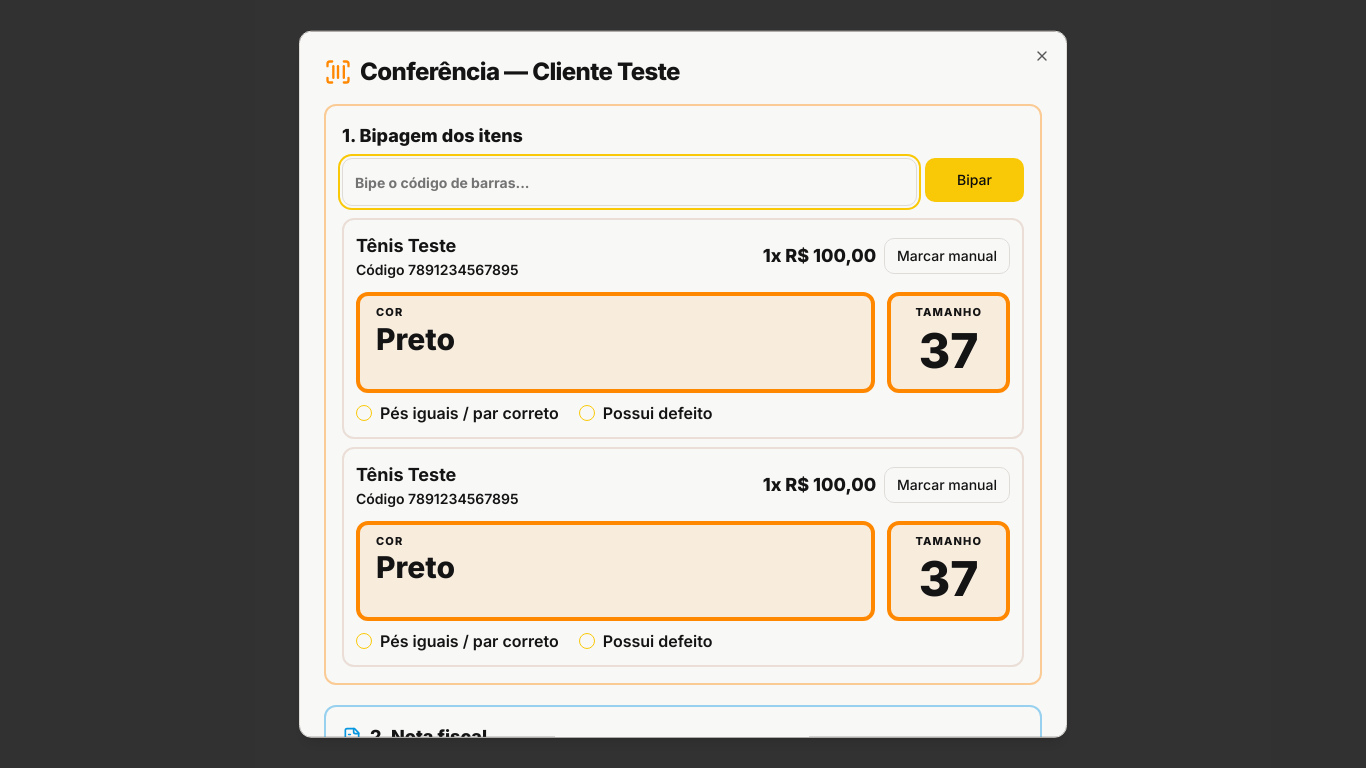
Scenario: conferência da Expedição do PDV › duas unidades em duas linhas contam duas bipagens
The image size is (1366, 768).
Type "T101-37" into the field with placeholder "Bipe o código de barras...".
click(630, 182); type("T101-37")  # box [342,158,917,206]
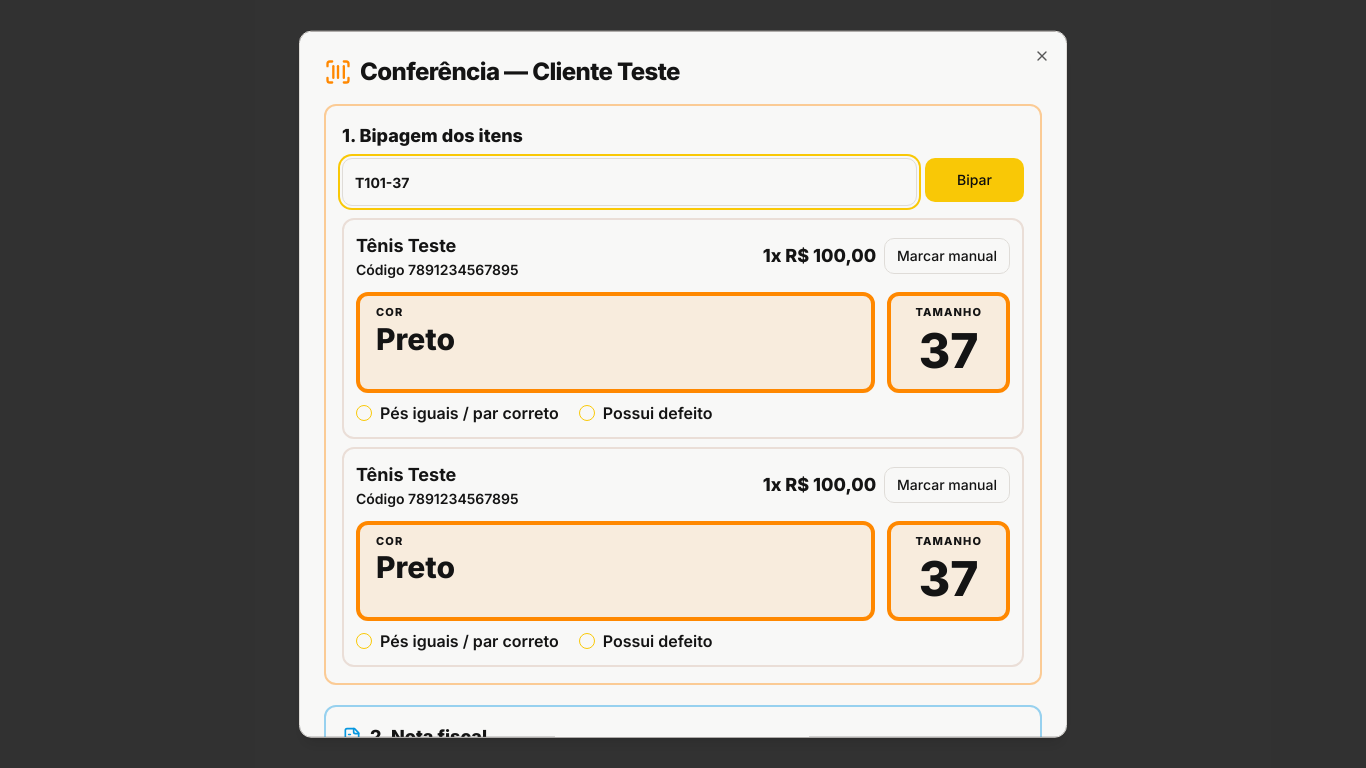
Press Enter in the field with placeholder "Bipe o código de barras...", box [342,158,917,206]
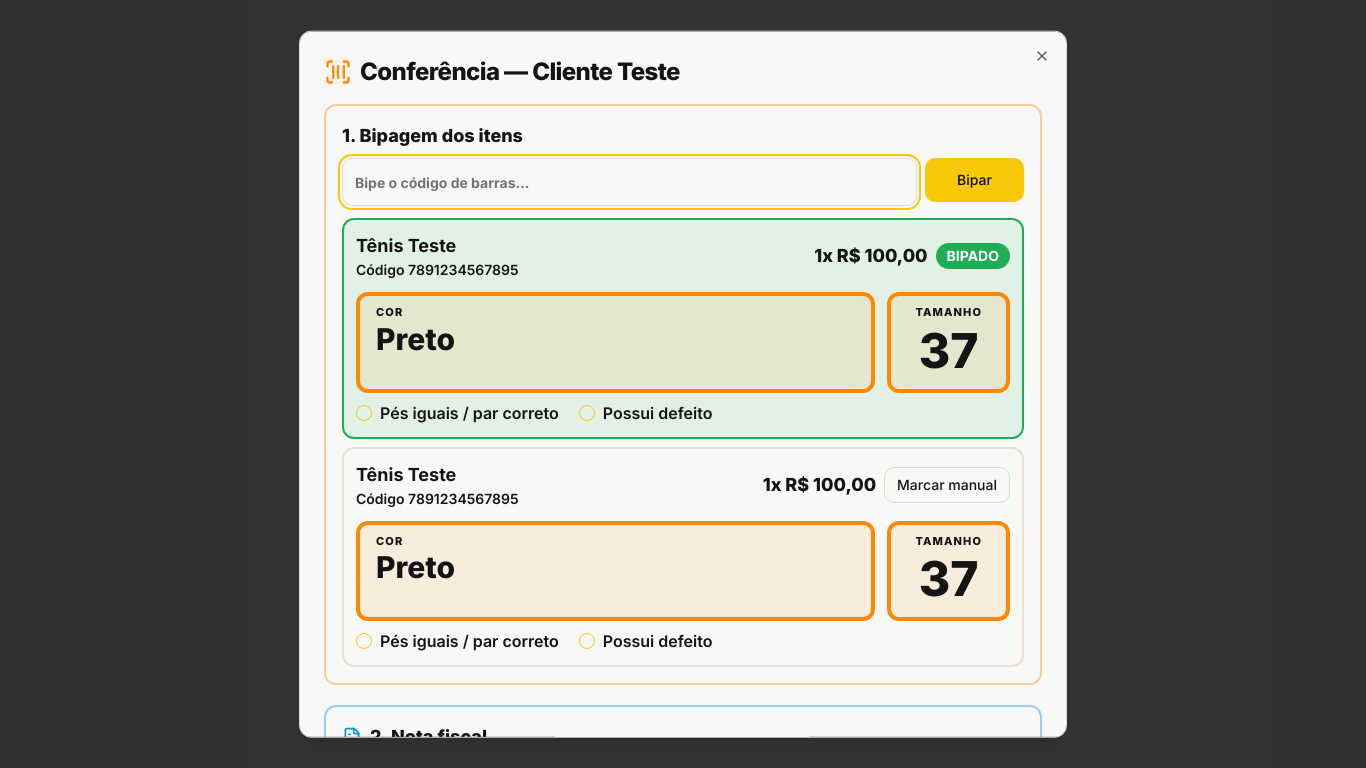
Expected: the text "BIPADO" is shown once, [936,243,1010,269]
Type "T101-37" into the field with placeholder "Bipe o código de barras...".
click(630, 182); type("T101-37")  # box [342,158,917,206]
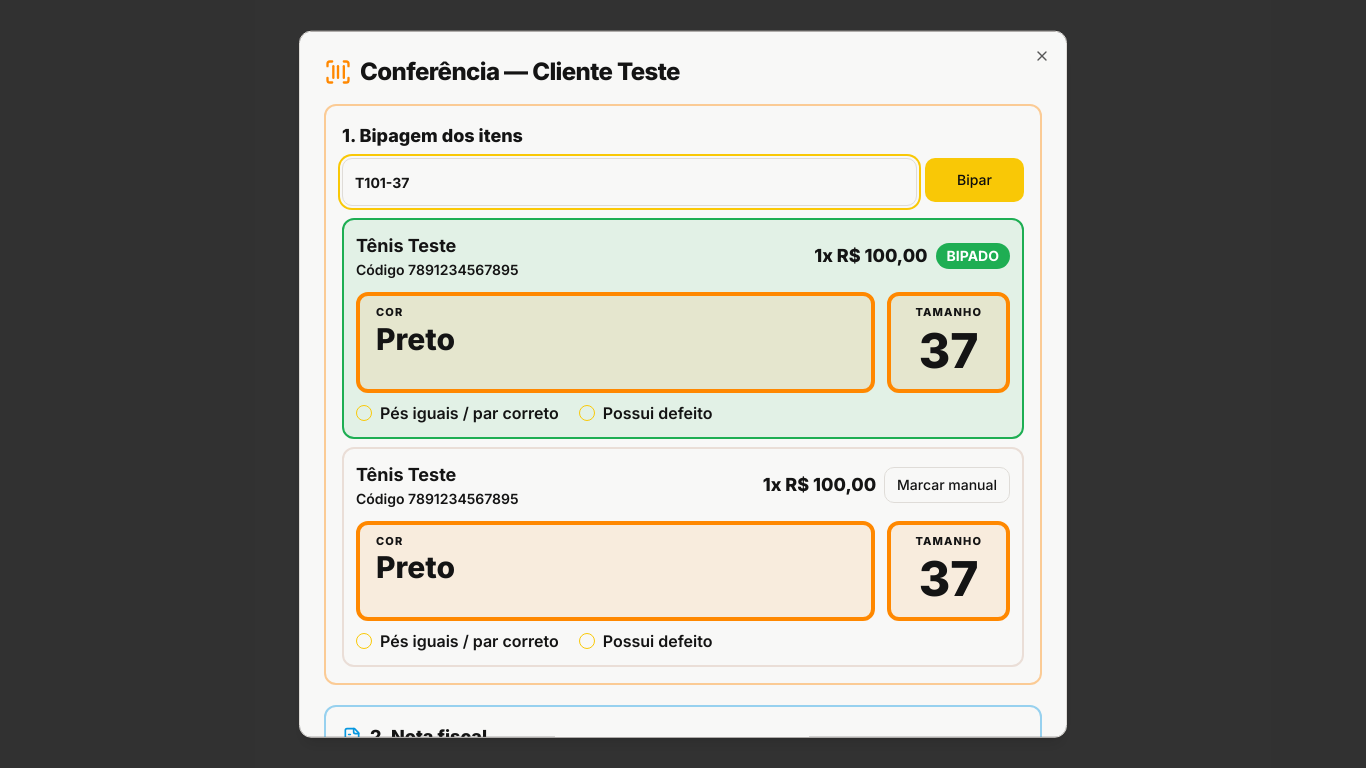
Press Enter in the field with placeholder "Bipe o código de barras...", box [342,158,917,206]
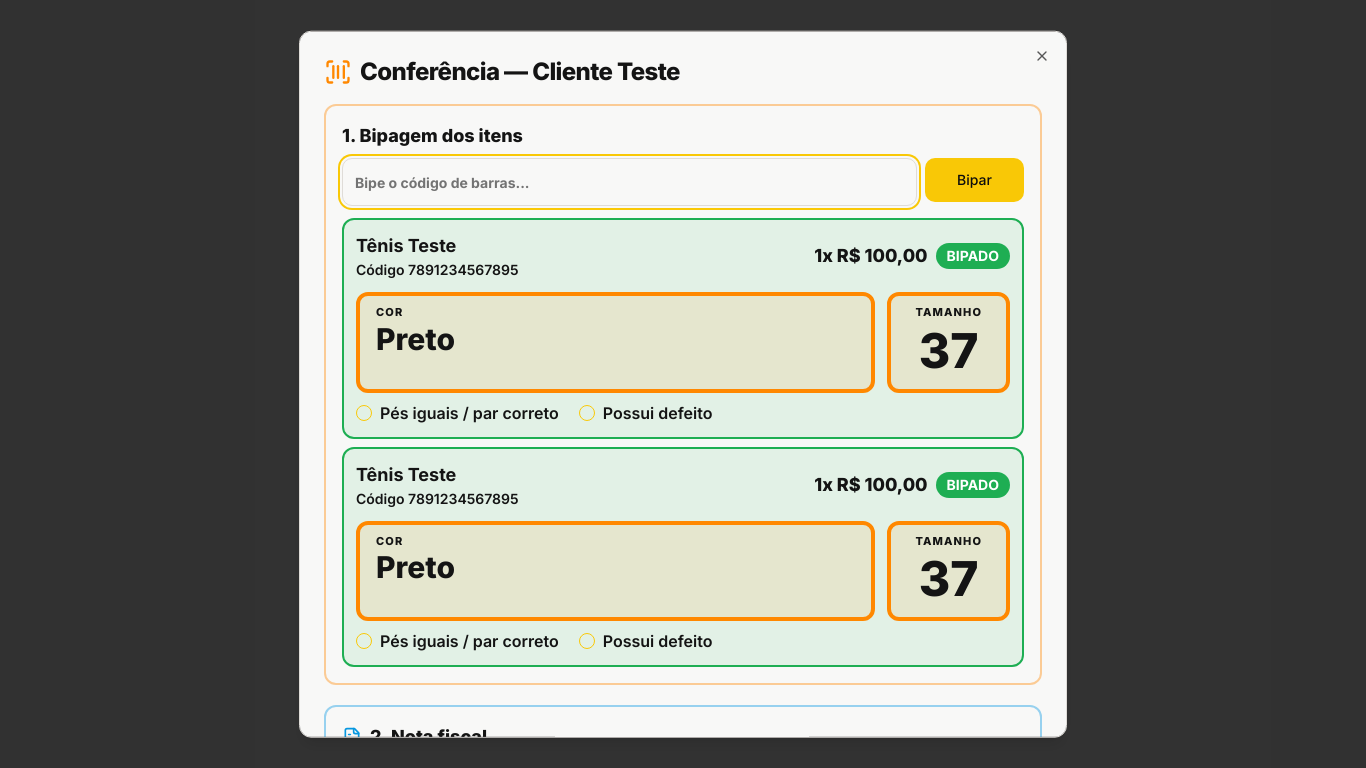
Expected: the text "BIPADO" is shown 2 times, [936,243,1010,269]; [936,471,1010,497]
